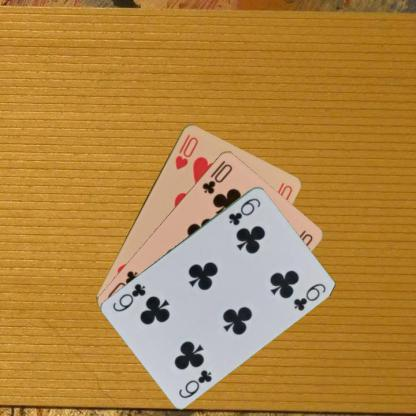10c: (199, 161, 233, 195)
10h: (172, 131, 200, 171)
6c: (176, 366, 213, 400), (226, 195, 262, 226)
